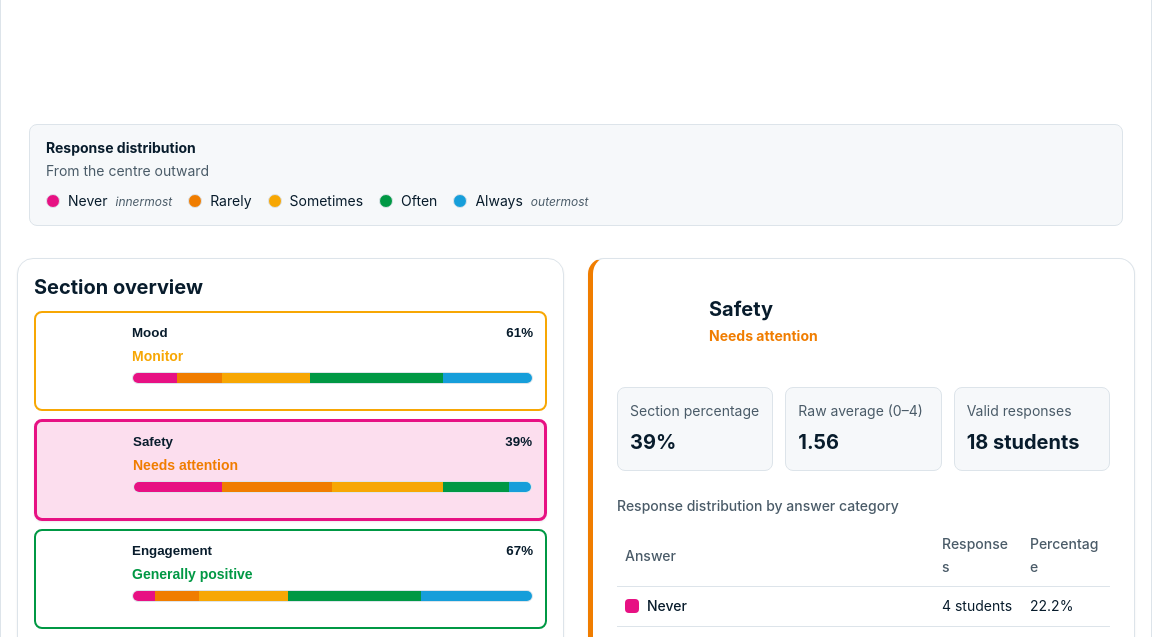
TeacherDashboard — threshold reached › updates the detail panel when another section is selected
(page scrolled)
Click the button "Mood 61% Monitor" at (84, 361), box [34,310,547,410]
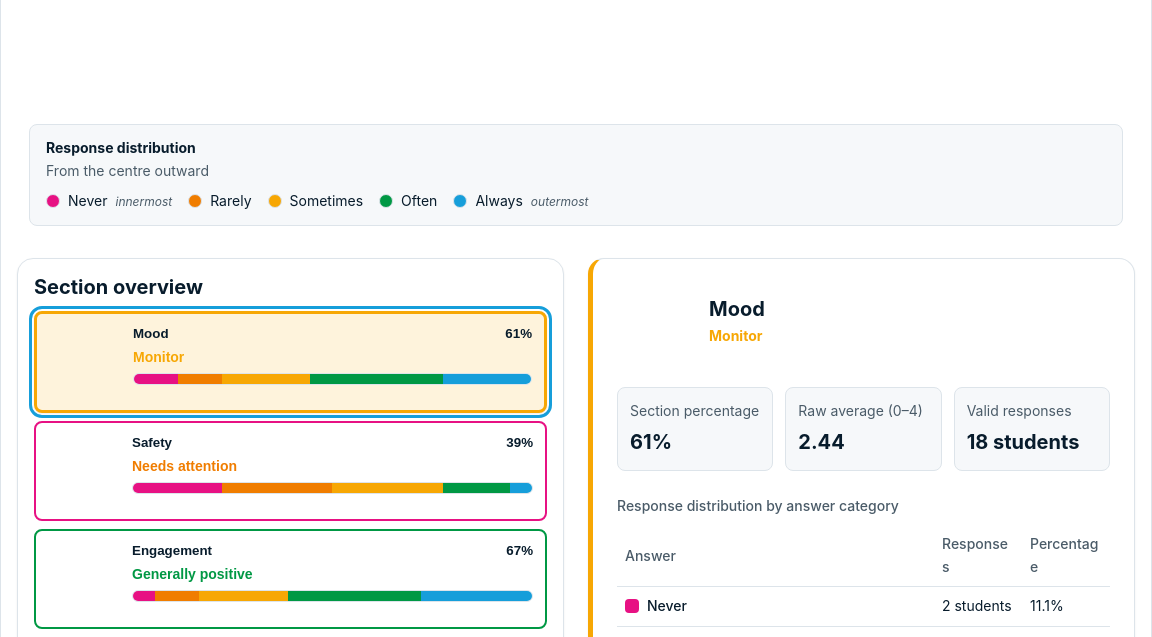
Now the heading "Mood" is shown, box [709,297,765,321]
